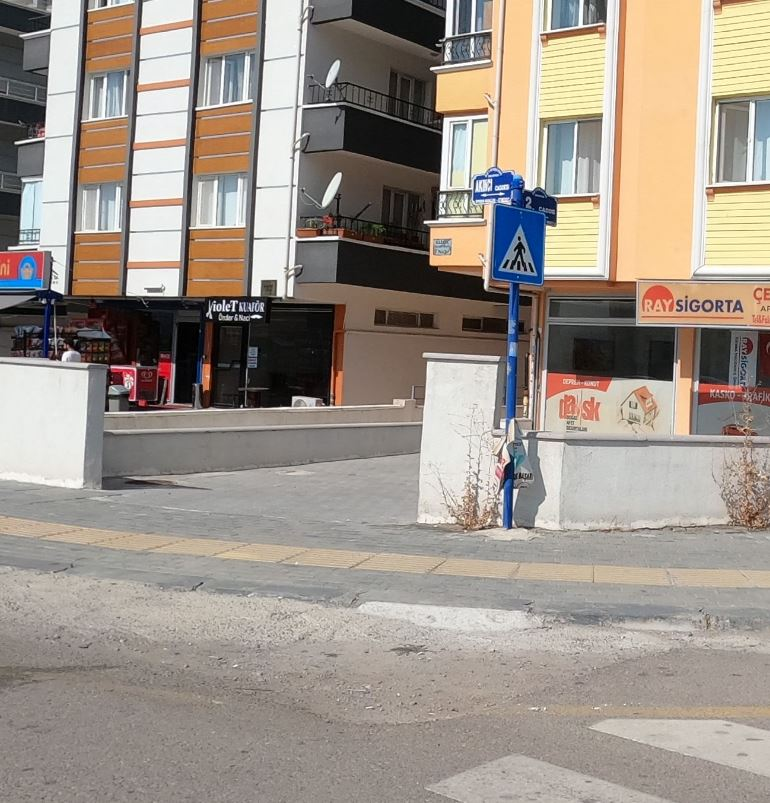Yaya Gecidi: (496, 204, 546, 275)
